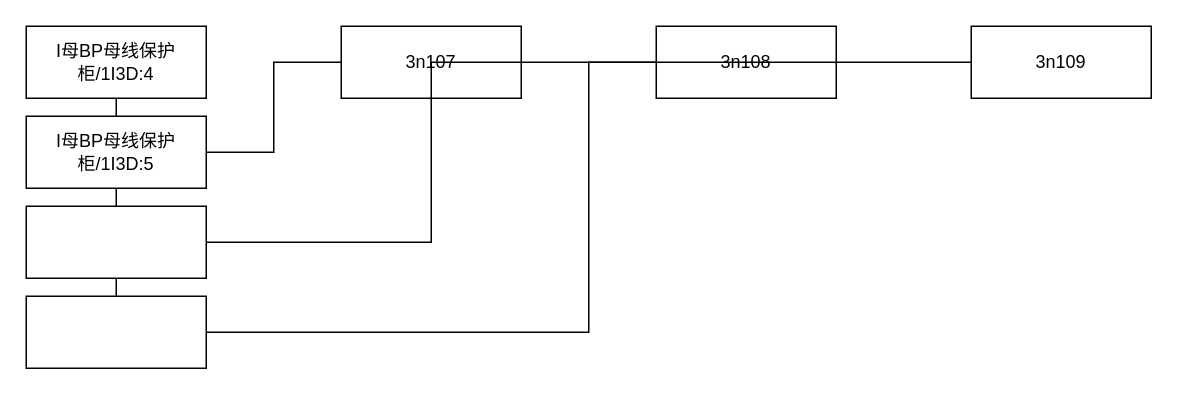
This 1178x395 diagram has some shape labels left out. The centre of each missing label's shape, as x and y in pixels:
I母BP母线保护柜/1I3D:6: point 115,241
I母BP母线保护柜/1I3D:7: point 115,331
